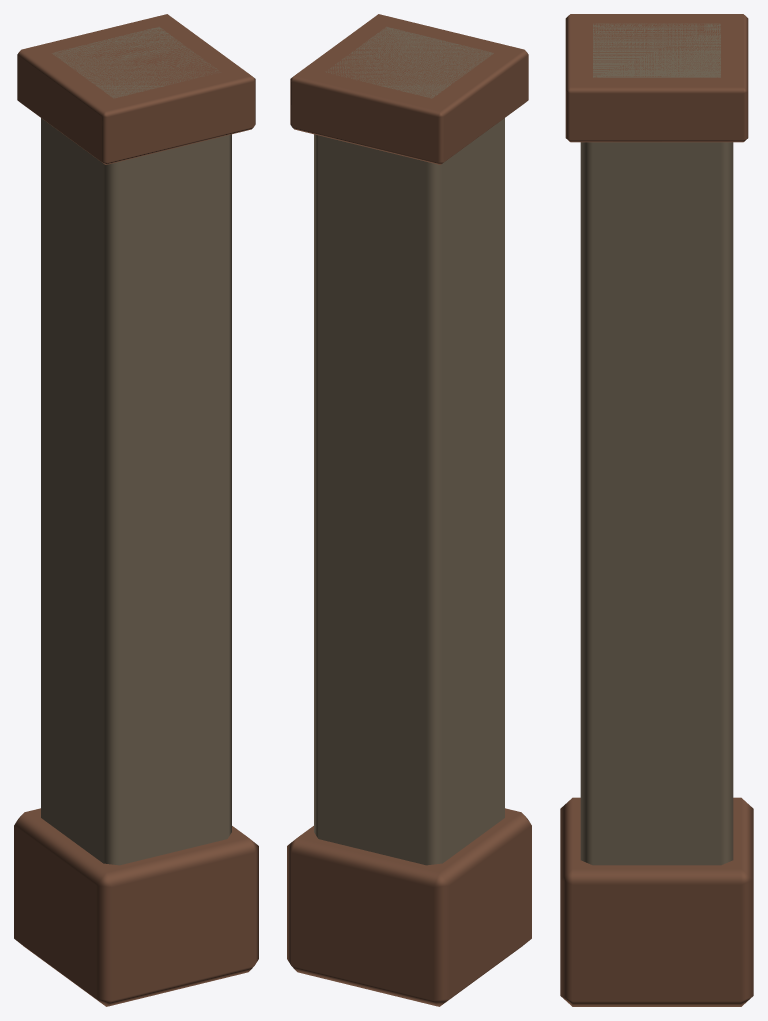
File: ghost-town-post-t.9f5a7202.glb
The picture shows the model from 3 angles, left to right: view 1: azimuth 30°, elevation 25°; view 2: azimuth 150°, elevation 25°; view 3: azimuth 270°, elevation 25°; orthographic projection. The views are drawn at different scales.
Parts seen in each view (by area): view 1: body; view 2: body; view 3: body.
Part boxes in pixels (x1,y1,x2,y2): body: [14, 14, 258, 1006]; body: [287, 14, 531, 1006]; body: [560, 14, 753, 1006].
Bounding box in the file's own units: 0.38 × 2 × 0.38.
